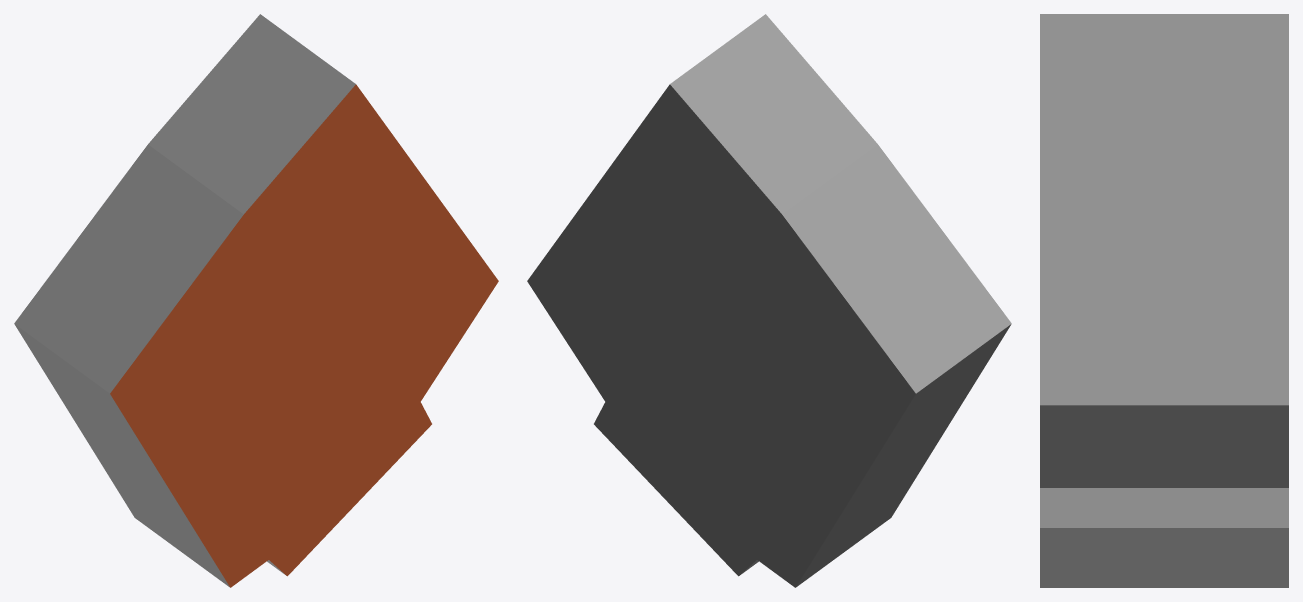
Rendered from construction_3641_assumed_A_Casa_h6m.obj.
3 renders of one model, left to right at view 1: azimuth 30°, elevation 25°; view 2: azimuth 150°, elevation 25°; view 3: azimuth 270°, elevation 25°, orthographic. The views are drawn at different scales.
Visible parts, largest first — view 1: construction_3641_assumed_A_Casa; view 2: construction_3641_assumed_A_Casa; view 3: construction_3641_assumed_A_Casa.
Boxes of the visible parts, <box> form: construction_3641_assumed_A_Casa: <box>14,14,498,587</box>; construction_3641_assumed_A_Casa: <box>527,14,1011,587</box>; construction_3641_assumed_A_Casa: <box>1040,14,1288,587</box>.
Bounding box in the file's own units: 14.05 × 16.42 × 6.
